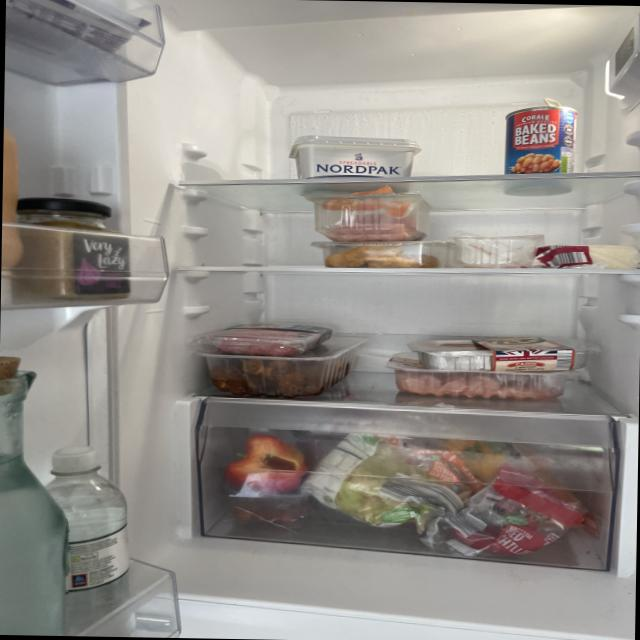Carne cerdo: (314, 198, 430, 240)
Carne pollo: (416, 337, 590, 370), (396, 371, 570, 398)
Lechuga/Endivia: (323, 440, 444, 526)
Mantequilla: (288, 136, 420, 177)
Queso: (4, 0, 141, 72), (549, 244, 639, 272)
